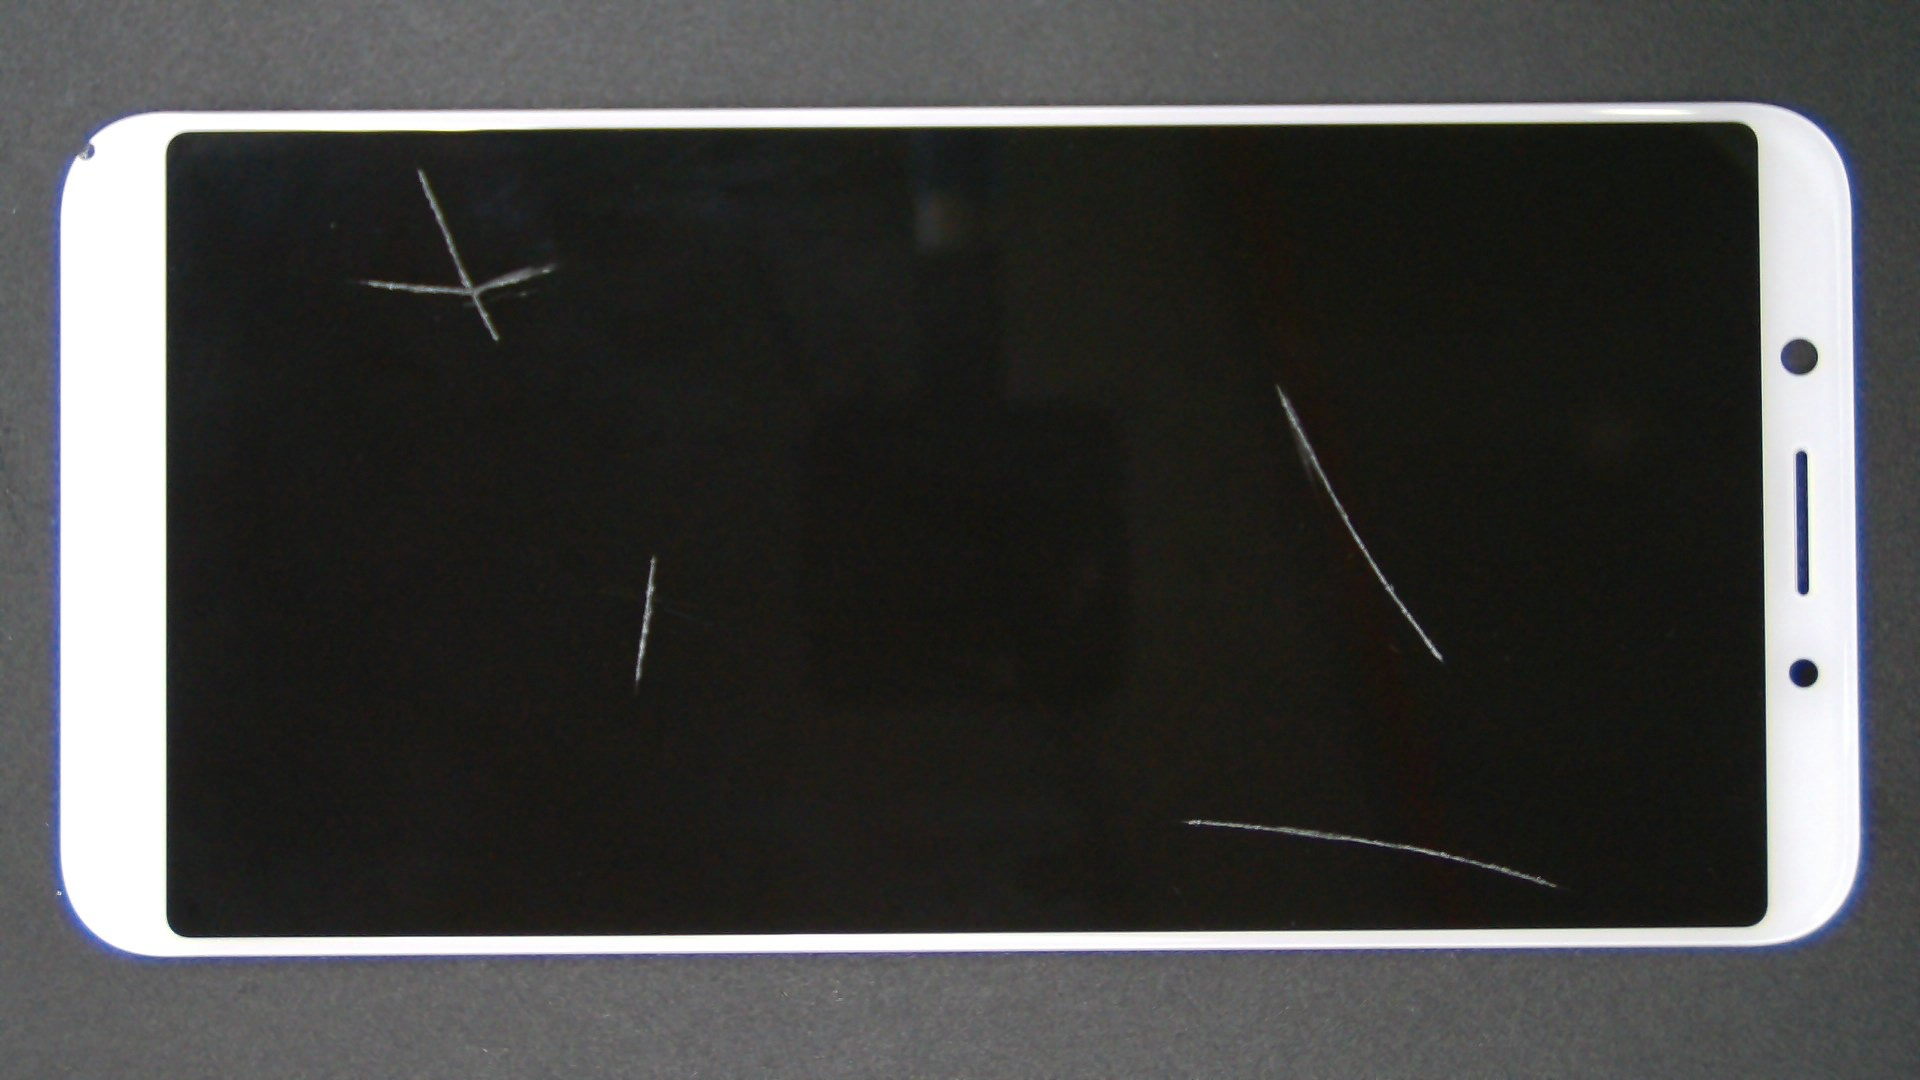oil: (596, 407, 1784, 1080), (640, 191, 1915, 575), (327, 277, 977, 833), (211, 82, 626, 252)
